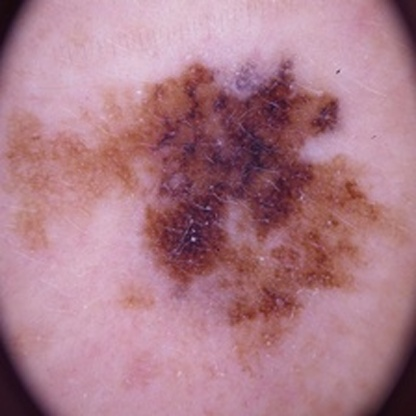malignant: (166, 77, 334, 281)
